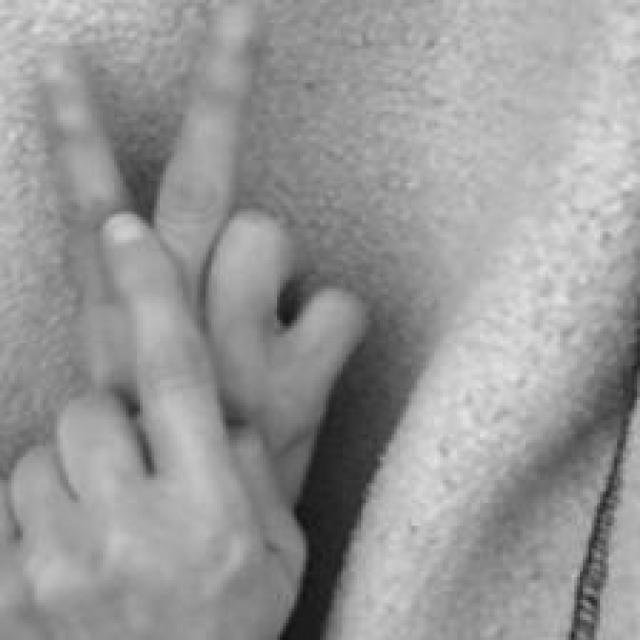Y: (1, 1, 378, 640)
